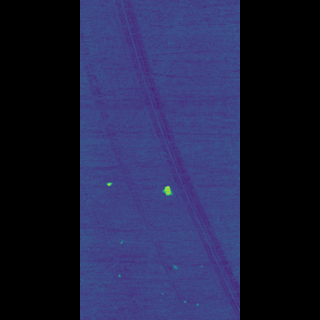Loch: (134, 0, 202, 318), (119, 15, 175, 305), (159, 183, 167, 197), (131, 180, 136, 187)
